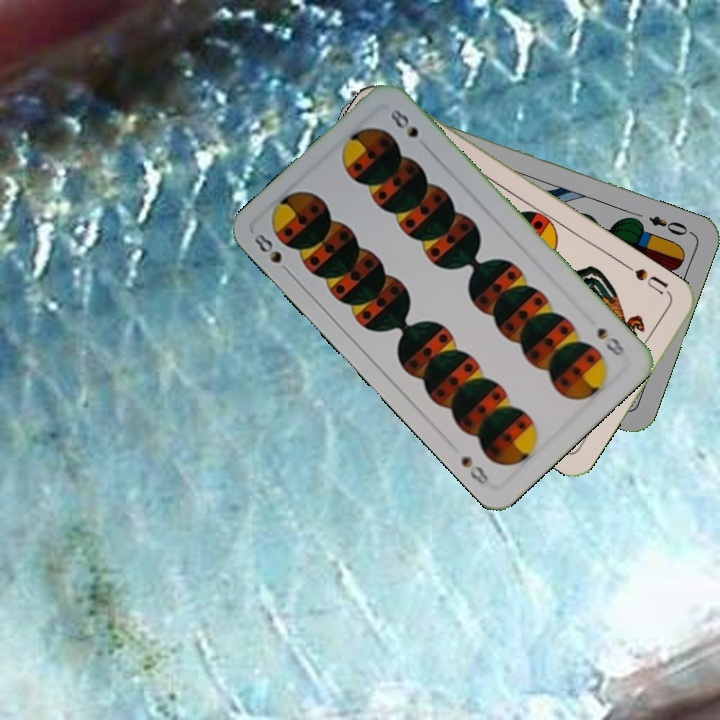EO: (644, 211, 695, 239)
S8: (250, 229, 295, 278), (593, 323, 629, 359)
SU: (621, 260, 674, 299)
